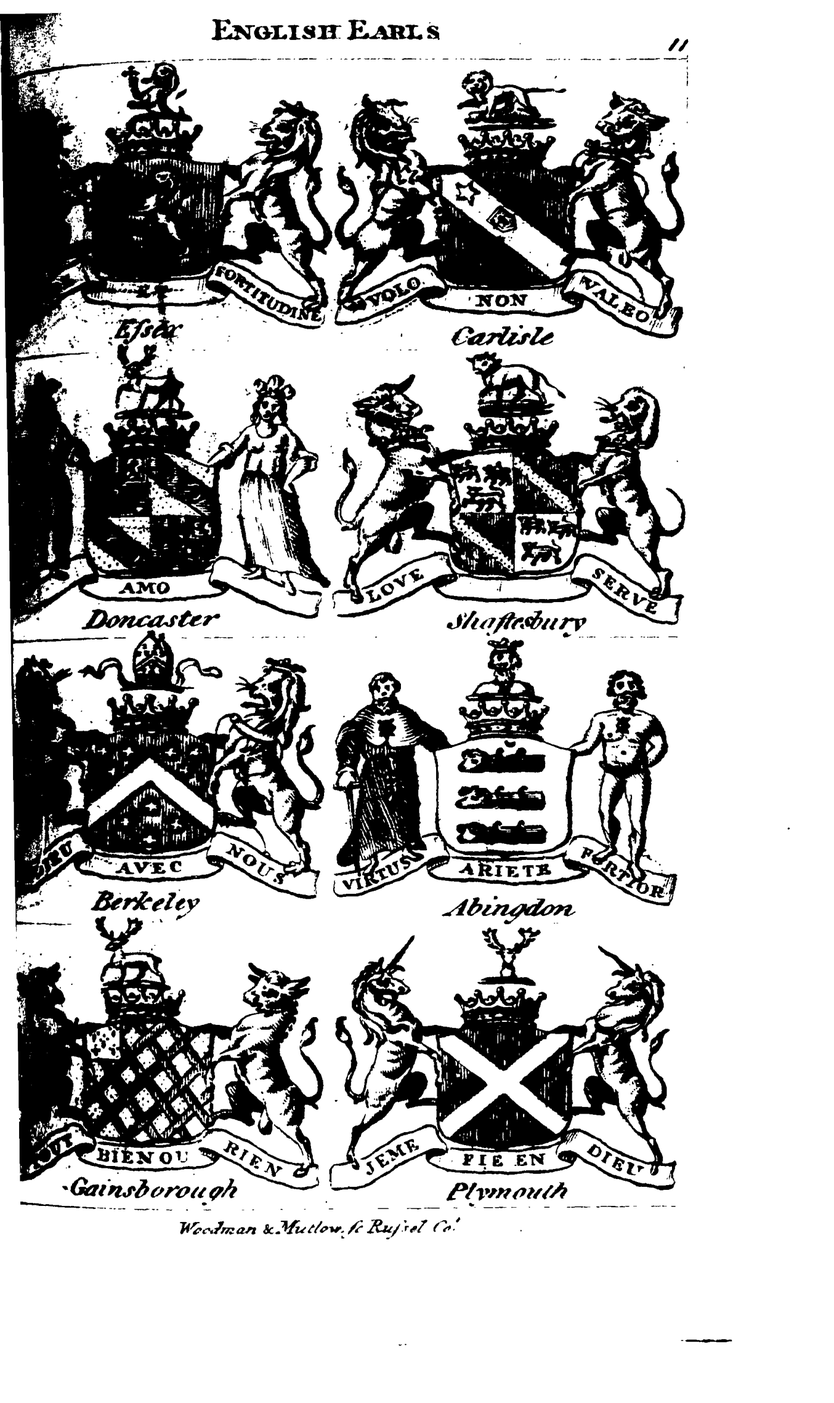coat_of_arms: (322, 916, 695, 1210), (324, 348, 692, 644), (321, 637, 683, 923), (340, 58, 683, 356), (13, 916, 326, 1218), (5, 637, 326, 924), (15, 338, 328, 631), (18, 70, 332, 335)
